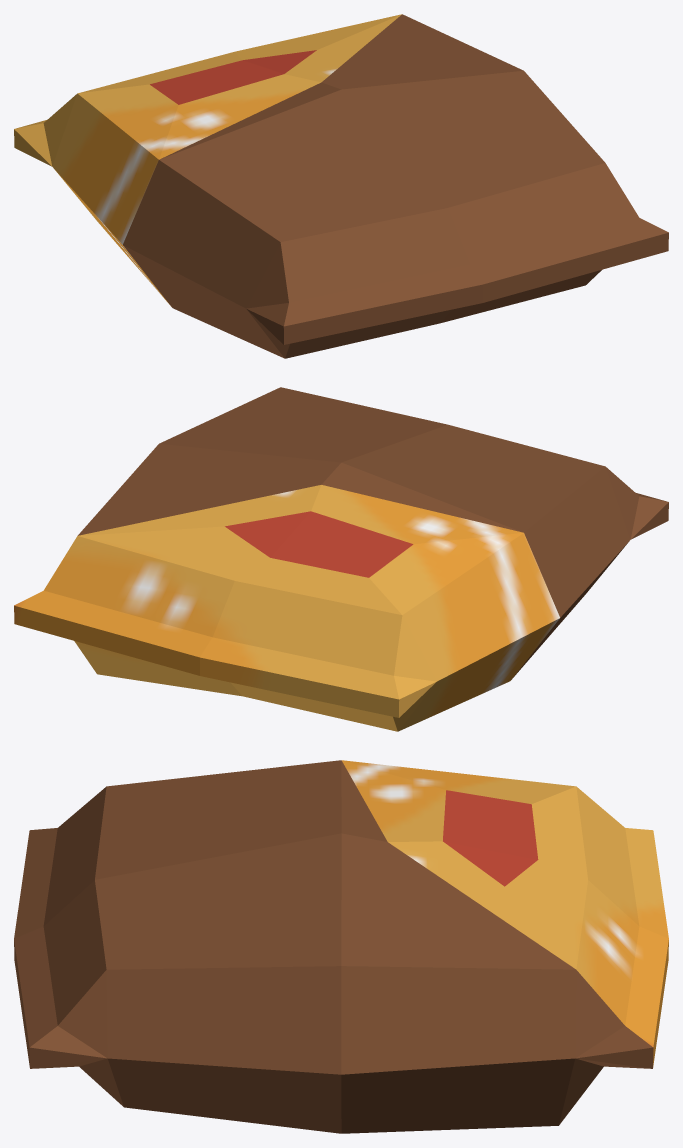
File: SM_Prop_Snack_02.fbx
3 views of the same model, one above another, from view 1: azimuth 30°, elevation 25°; view 2: azimuth 150°, elevation 25°; view 3: azimuth 270°, elevation 25° (orthographic). The views are drawn at different scales.
Parts seen in each view (by area): view 1: SM_Prop_Snack_02; view 2: SM_Prop_Snack_02; view 3: SM_Prop_Snack_02.
Part boxes in pixels (x1,y1,x2,y2): SM_Prop_Snack_02: [14, 14, 668, 358]; SM_Prop_Snack_02: [14, 387, 668, 731]; SM_Prop_Snack_02: [14, 760, 668, 1133].
Size of the model in its own units: 23.32 by 10.39 by 26.15.
